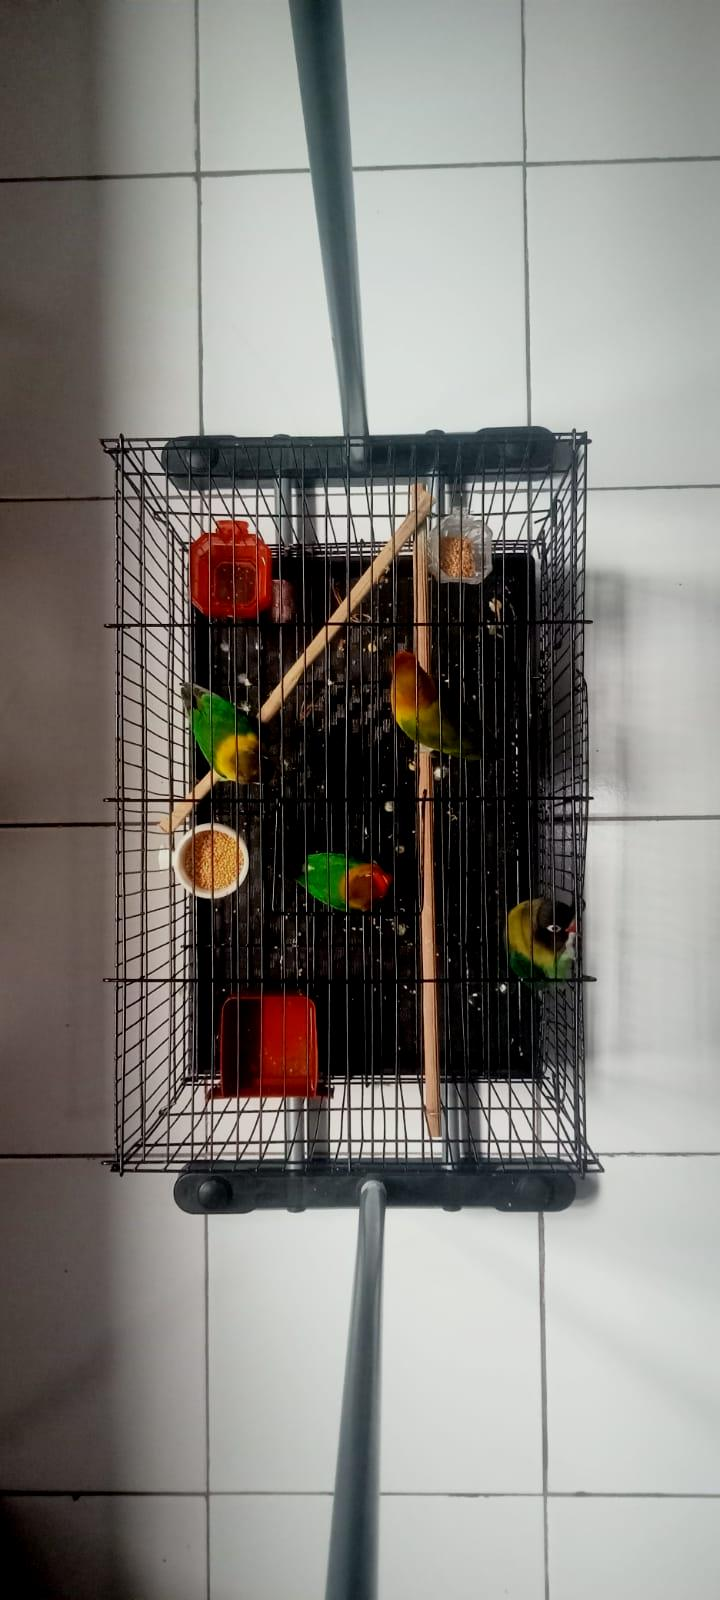LoveBird: (392, 652, 506, 762), (177, 677, 282, 787), (272, 852, 397, 913), (507, 897, 578, 995)
